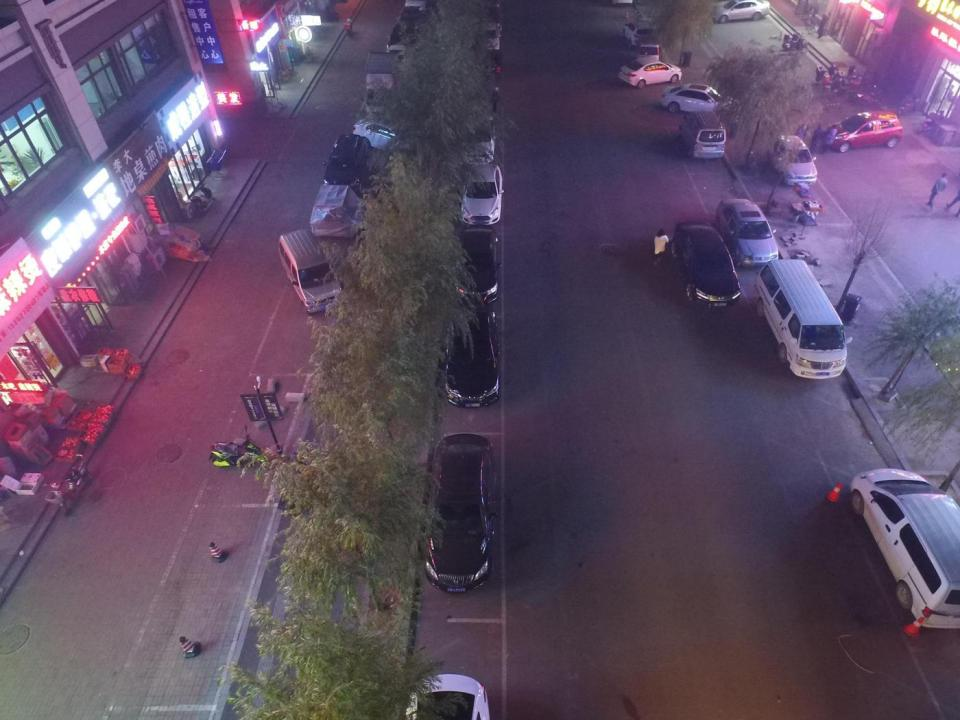car: (422, 433, 498, 591), (672, 219, 739, 308), (443, 304, 499, 406), (716, 198, 779, 268), (453, 225, 502, 303), (827, 111, 902, 152), (353, 115, 427, 156), (460, 163, 504, 225), (660, 84, 740, 117), (618, 56, 682, 89), (775, 135, 818, 184), (460, 114, 497, 162), (710, 0, 769, 23), (388, 21, 419, 56), (623, 20, 655, 49), (383, 46, 411, 76), (396, 7, 424, 36), (474, 22, 501, 51), (478, 48, 503, 78)
truck: (364, 52, 405, 116)
van: (849, 466, 960, 627), (754, 258, 853, 378), (278, 228, 343, 315), (322, 134, 368, 192), (679, 110, 726, 159), (637, 37, 660, 67), (480, 2, 503, 23)
